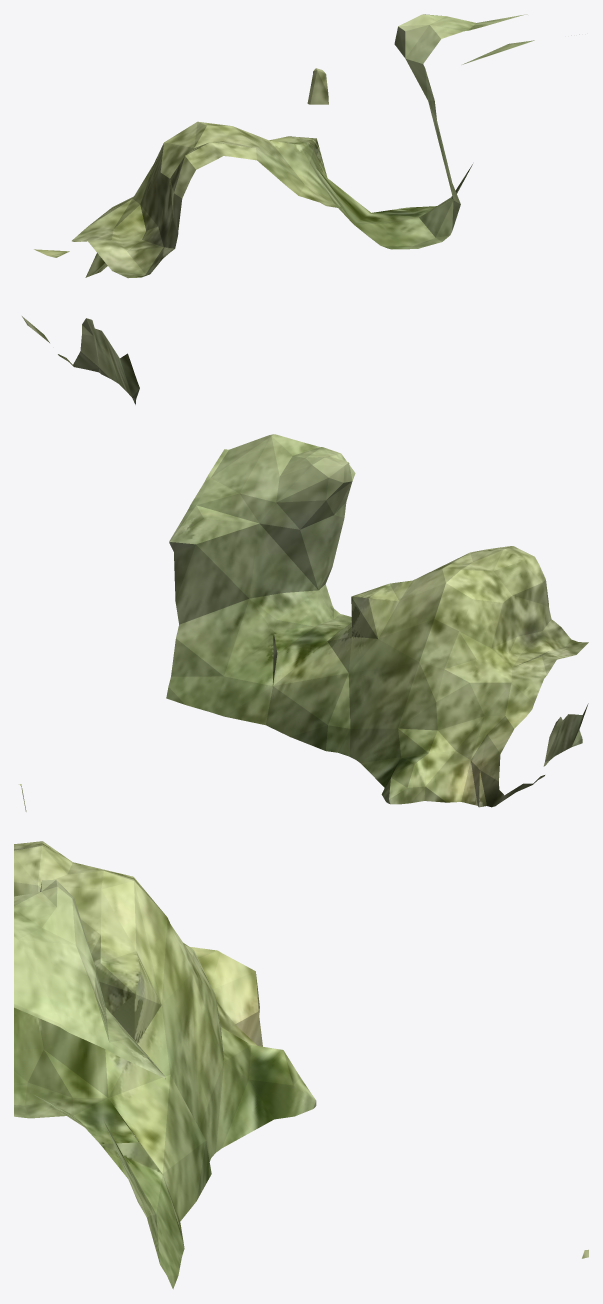
3 views of the same model, one above another, from view 1: azimuth 30°, elevation 25°; view 2: azimuth 150°, elevation 25°; view 3: azimuth 270°, elevation 25° (orthographic). The views are drawn at different scales.
Bounding box in the file's own units: 2.95 × 1.84 × 2.95.
Materials: 2 (2 with a texture image).
